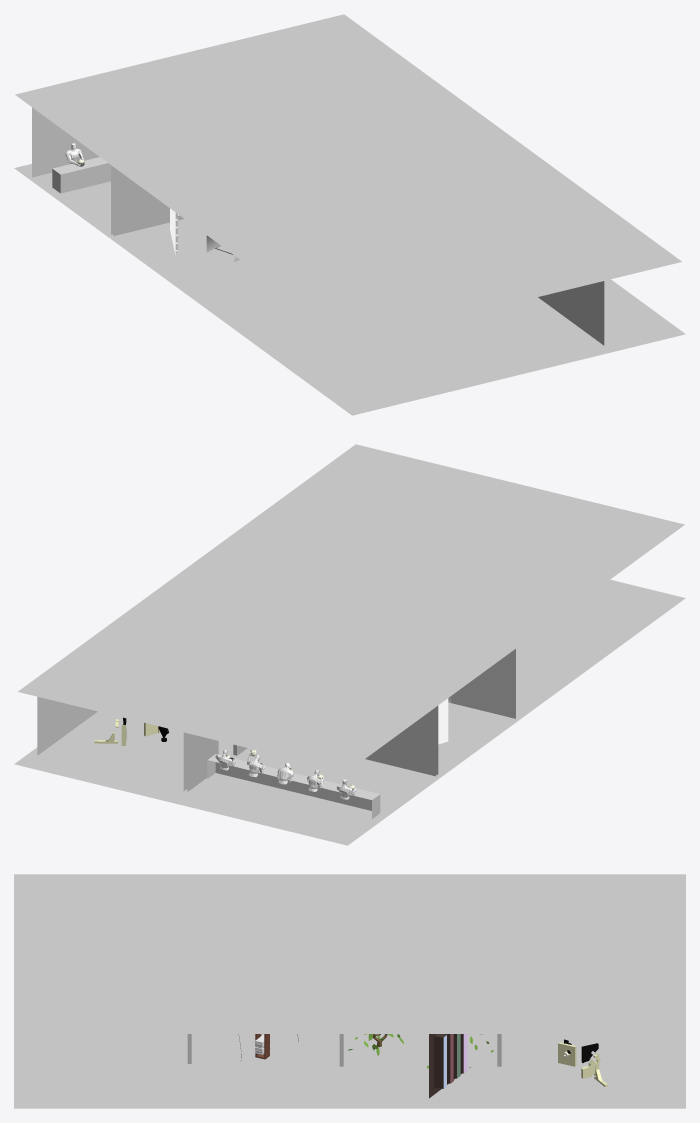
The model's file is stage-test-03.glb.
3 views of the same model, one above another, from view 1: azimuth 30°, elevation 25°; view 2: azimuth 150°, elevation 25°; view 3: azimuth 270°, elevation 25° (orthographic).
Parts seen in each view (by area): view 1: test-ceiling-ver2, test-ground-ver2, test-outer-wall-ver2, test-inner-wall-ver2-03, comforting-dinner-baked-table.002; view 2: test-ceiling-ver2, test-ground-ver2, test-outer-wall-ver2, test-inner-wall-ver2-03, comforting-dinner-baked-table.002, test-inner-wall-ver2-05, comforting-dinner-baked-johns.002; view 3: test-ceiling-ver2, test-ground-ver2, scenery-window-wall.001, wood-stand-b.003.
Boxes of the visible parts, x1,y1,x2,y2 form: test-ceiling-ver2: (15, 14, 681, 341); test-ground-ver2: (14, 164, 685, 415); test-outer-wall-ver2: (32, 107, 604, 345); test-inner-wall-ver2-03: (111, 165, 183, 236); comforting-dinner-baked-table.002: (52, 157, 110, 193); test-ceiling-ver2: (18, 444, 684, 771); test-ground-ver2: (14, 579, 685, 845); test-outer-wall-ver2: (37, 649, 515, 755); test-inner-wall-ver2-03: (365, 705, 438, 776); comforting-dinner-baked-table.002: (207, 754, 380, 818); test-inner-wall-ver2-05: (183, 732, 247, 791); comforting-dinner-baked-johns.002: (215, 750, 356, 799); test-ceiling-ver2: (14, 874, 685, 1033); test-ground-ver2: (14, 1034, 685, 1108); scenery-window-wall.001: (429, 1034, 463, 1098); wood-stand-b.003: (558, 1042, 576, 1066).
Bounding box in the file's own units: 181 × 46.98 × 318.
